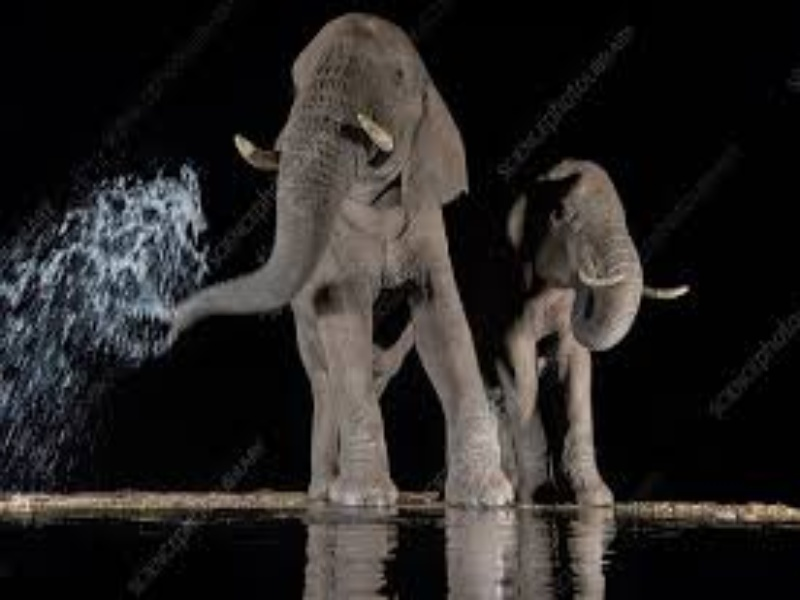elephant: (133, 23, 688, 542)
